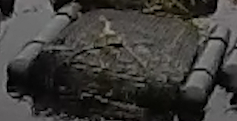bag: (9, 5, 229, 107)
